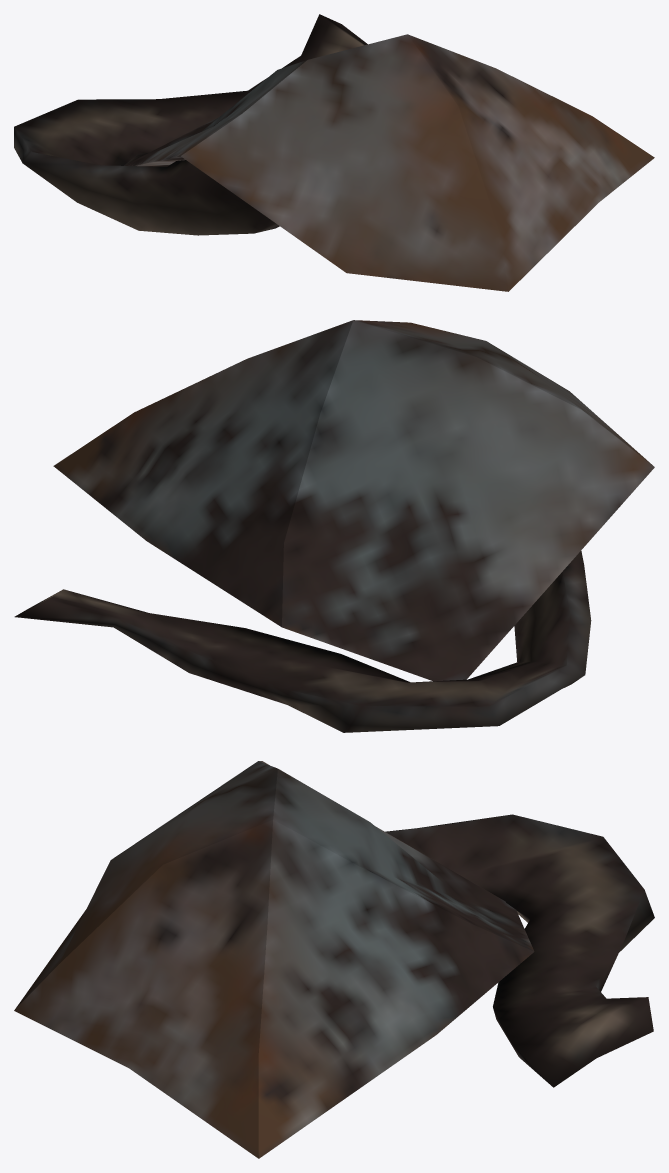
The model's file is RustedArmor_piece3.fbx.
3 renders of one model, top to bottom at view 1: azimuth 30°, elevation 25°; view 2: azimuth 150°, elevation 25°; view 3: azimuth 270°, elevation 25°, orthographic. The views are drawn at different scales.
Parts seen in each view (by area): view 1: armor_piece3; view 2: armor_piece3; view 3: armor_piece3.
Part boxes in pixels (x1,y1,x2,y2): armor_piece3: (14, 14, 654, 291); armor_piece3: (14, 320, 654, 732); armor_piece3: (14, 761, 654, 1158).
Bounding box in the file's own units: 51.51 × 17.63 × 47.47.
